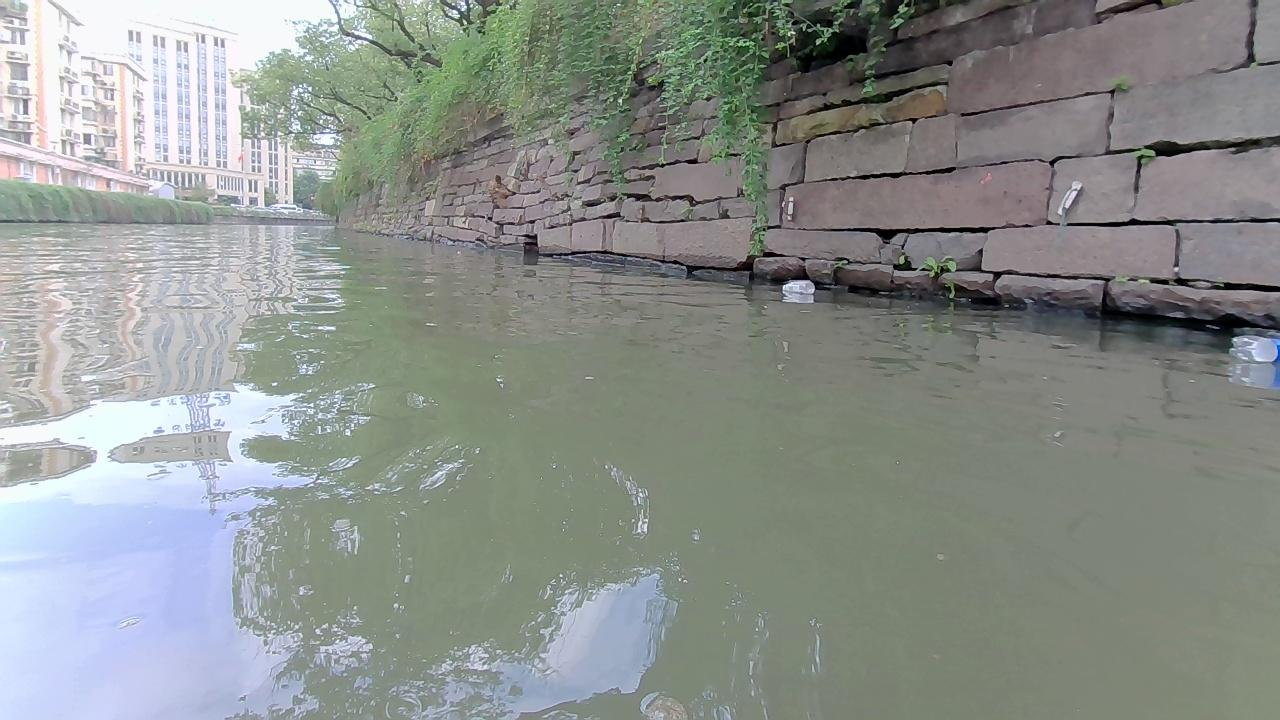bottle: (1227, 332, 1279, 359), (780, 278, 816, 293)
